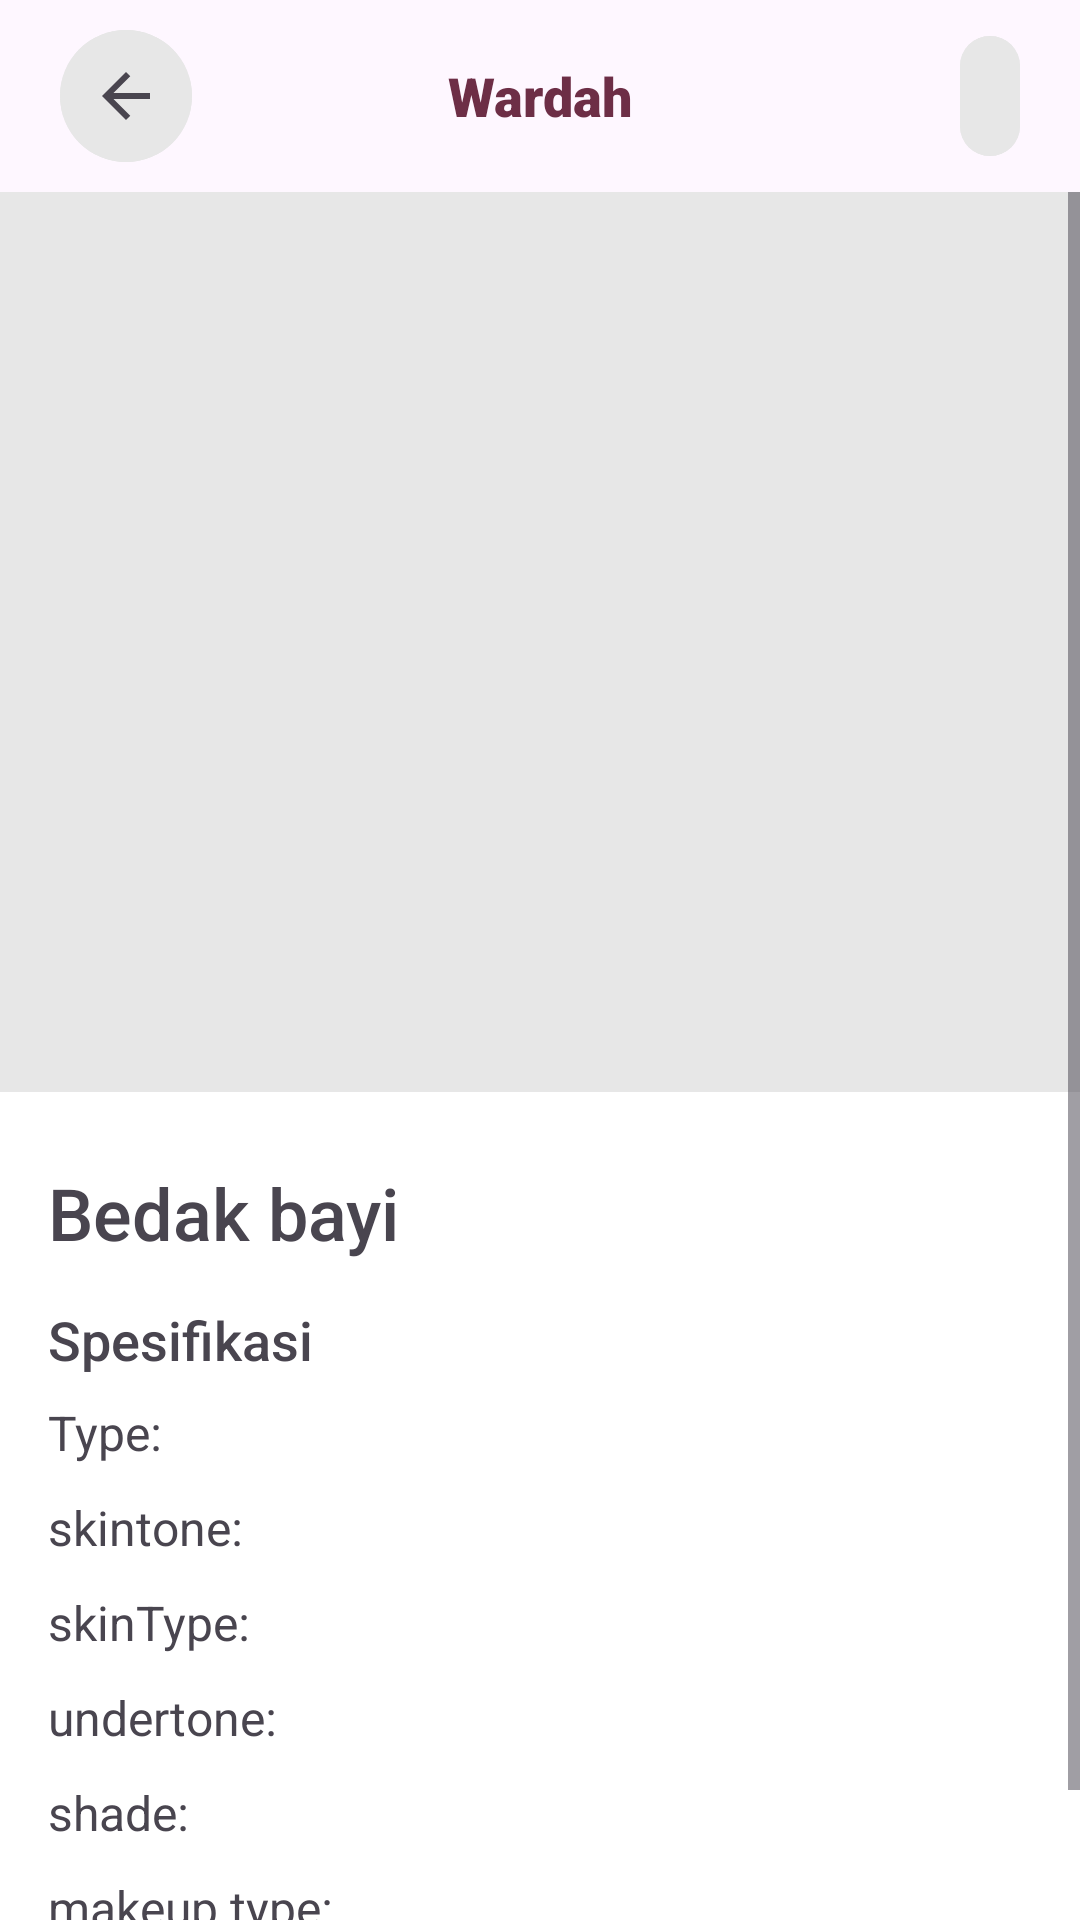

Where to tap for icons on this 1080px x 1920px app screen, as (x,y):
arrow back: (126,96)
